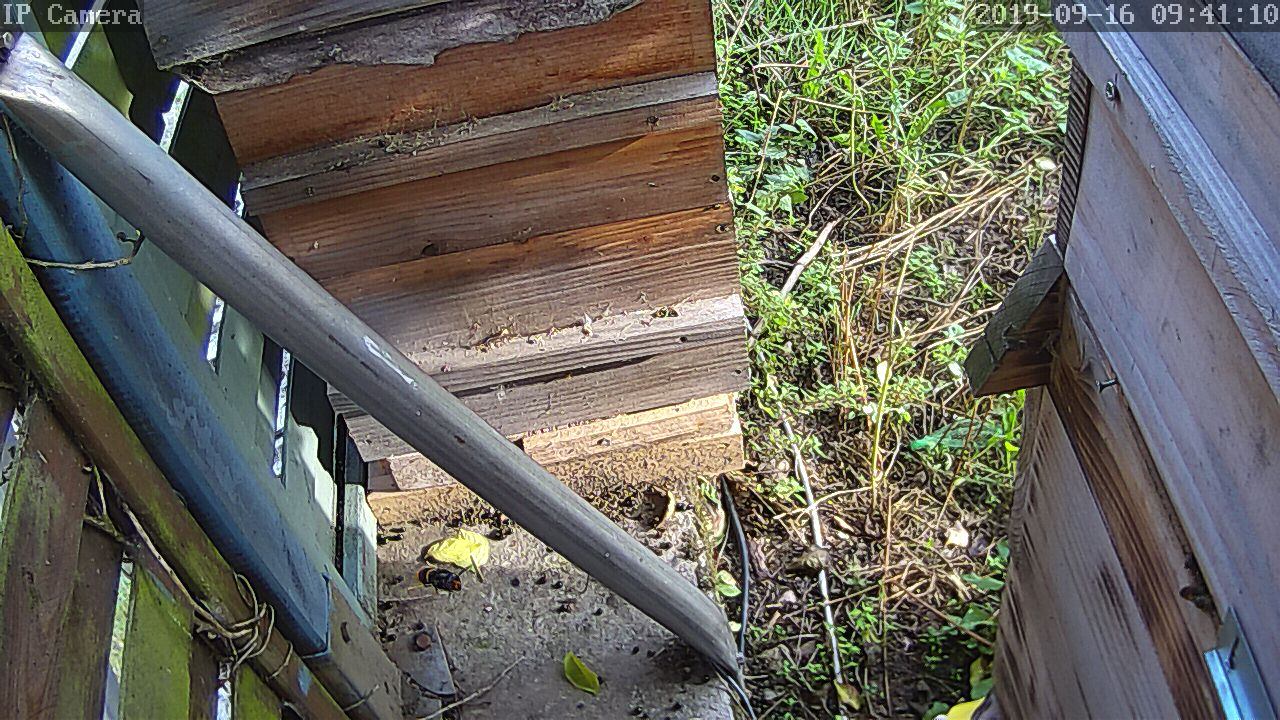bee: (1175, 584, 1214, 621)
hornet: (412, 564, 471, 598)
